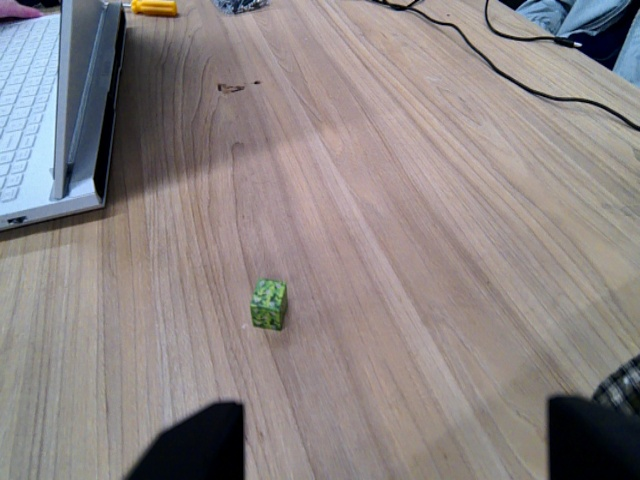grass: (250, 279, 288, 332)
